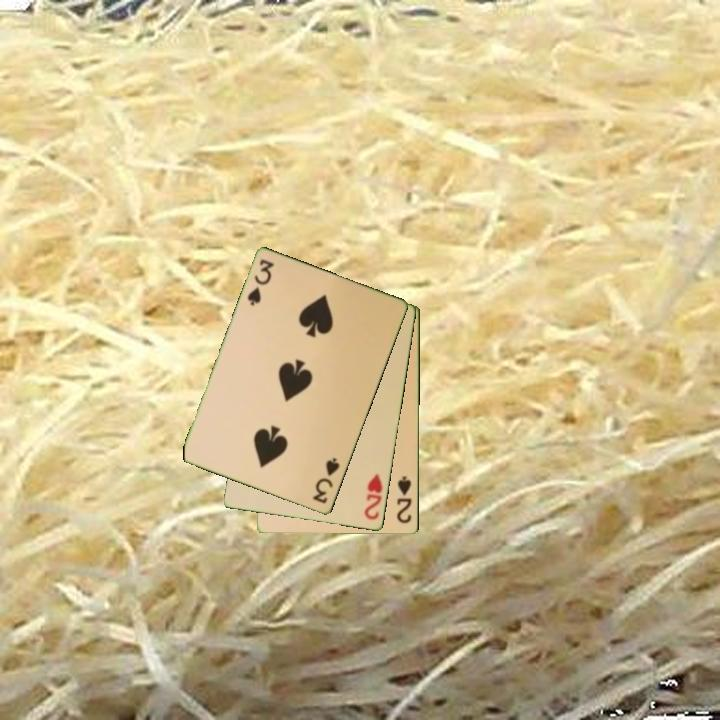2h: (361, 470, 386, 523)
2s: (394, 473, 415, 527)
3s: (309, 454, 343, 507), (244, 256, 277, 309)
